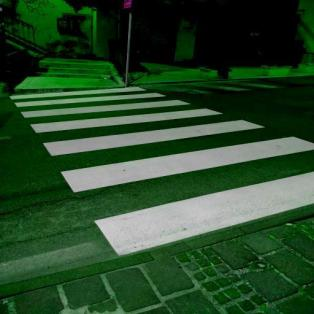Paso de Cebra: (28, 106, 269, 161)
